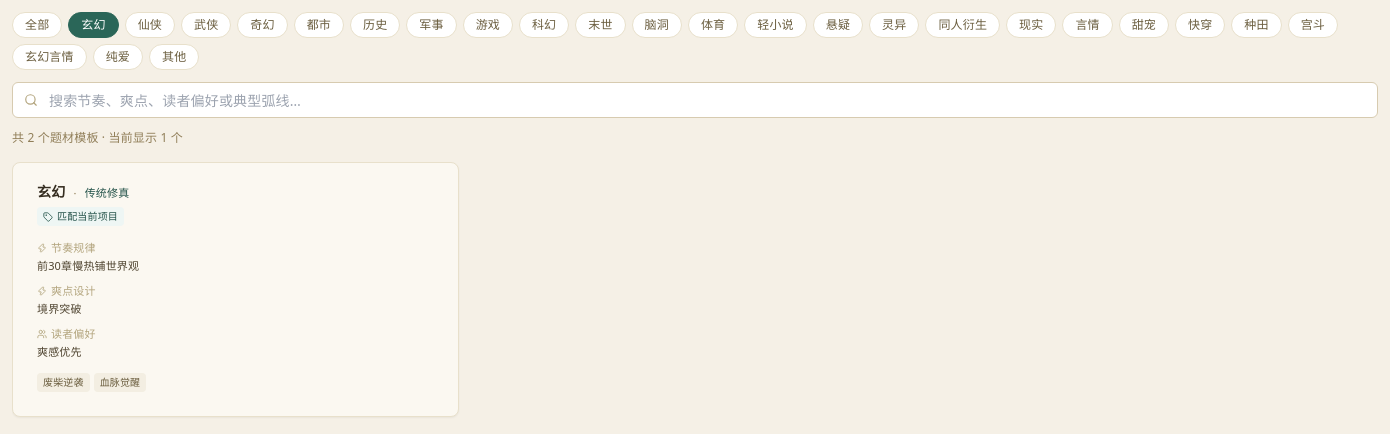
Test case: GenreTemplateList › 按题材按钮筛选
The image size is (1390, 434).
Expected: the text "传统修真" is shown, [85,185,129,201]
Click the button "言情" at (1088, 25), box [1062,12,1113,38]
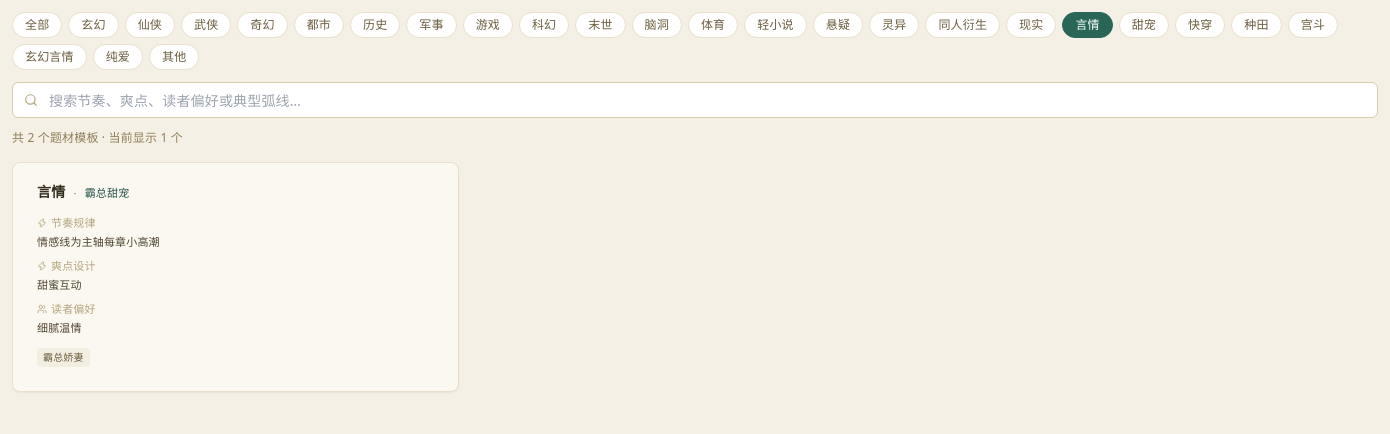
Expected: the text "霸总甜宠" is shown, [85,185,129,201]
Expected: the text "传统修真" is gone
